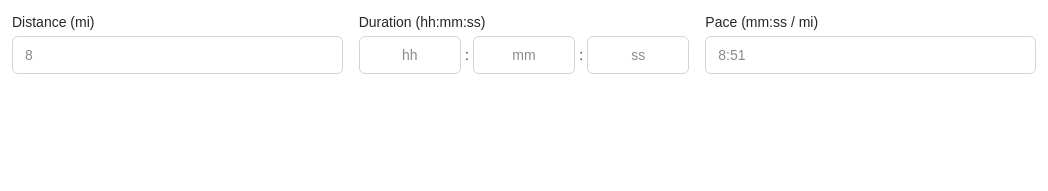
uses mile labels and recalculates when the automatic metric changes
In the field labelled "Distance (mi)": (177, 55) [12,36,343,74], type "5"
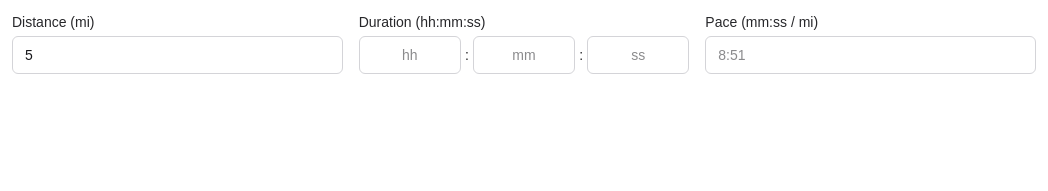
In the field named "Duration (minutes)": (524, 55) [473,36,575,74], type "40"
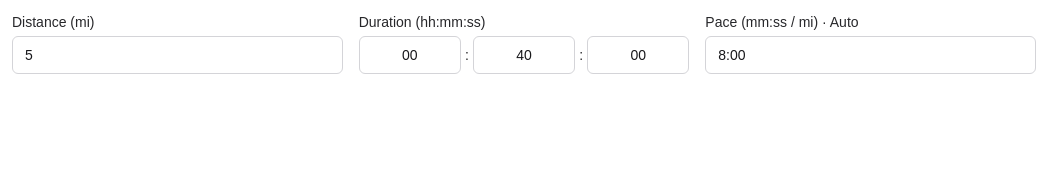
Now the field labelled "Pace (mm:ss / mi) · Auto" holds "8:00"
Replace the text in the field labelled "Pace (mm:ss / mi) · Auto" with "7:30": (871, 55) [705,36,1036,74]
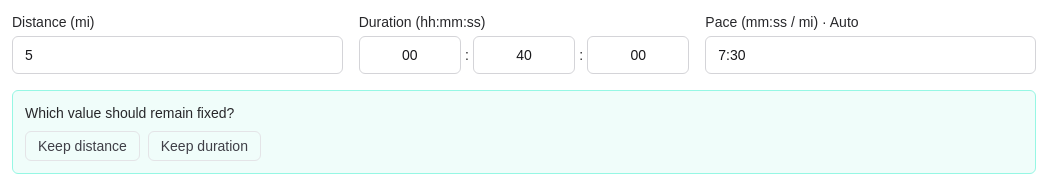
Click the button "Keep distance": (82, 146) [25,131,140,161]
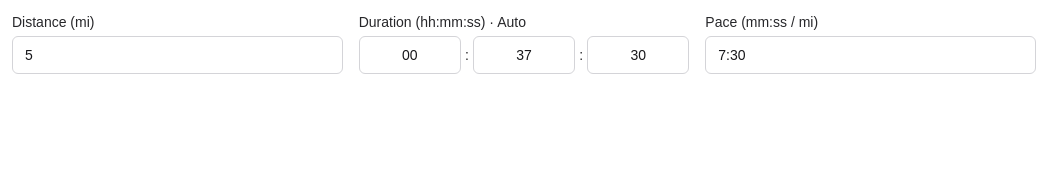
Now the field named "Duration (minutes)" holds "37", box [473,36,575,74]
Now the field named "Duration (hh:mm:ss) seconds" holds "30", box [587,36,689,74]
